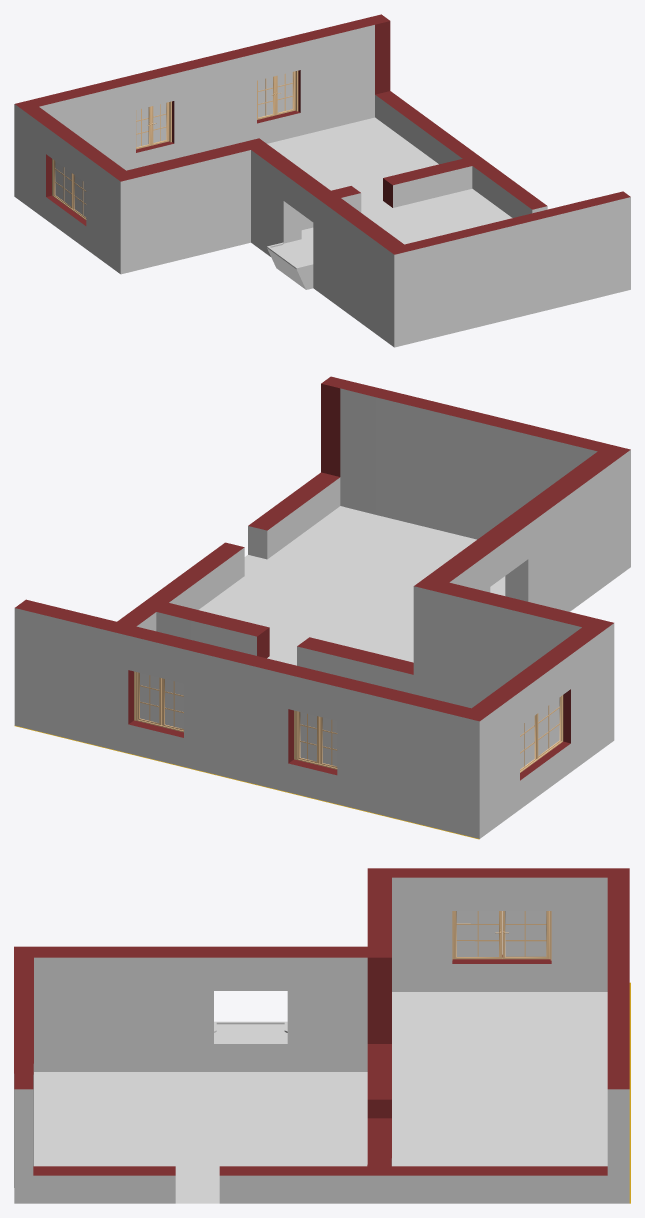
The model's file is neHouse.fbx.
3 views of the same model, one above another, from view 1: azimuth 30°, elevation 25°; view 2: azimuth 150°, elevation 25°; view 3: azimuth 270°, elevation 25° (orthographic). The views are drawn at different scales.
Parts seen in each view (by area): view 1: Walls, Floor, 16639_12_Pane_Casement_Window-White_V1.002, 16639_12_Pane_Casement_Window-White_V1.001, 16639_12_Pane_Casement_Window-White_V1; view 2: Walls, Floor, 16639_12_Pane_Casement_Window-White_V1.002, 16639_12_Pane_Casement_Window-White_V1.001, 16639_12_Pane_Casement_Window-White_V1; view 3: Walls, Floor, 16639_12_Pane_Casement_Window-White_V1.
Boxes of the visible parts, bbox=[...] form: Walls: bbox=[14, 14, 630, 347]; Floor: bbox=[267, 117, 512, 247]; 16639_12_Pane_Casement_Window-White_V1.002: bbox=[257, 70, 298, 119]; 16639_12_Pane_Casement_Window-White_V1.001: bbox=[136, 101, 171, 149]; 16639_12_Pane_Casement_Window-White_V1: bbox=[52, 159, 86, 219]; Walls: bbox=[14, 376, 630, 838]; Floor: bbox=[14, 506, 505, 839]; 16639_12_Pane_Casement_Window-White_V1.002: bbox=[134, 671, 183, 732]; 16639_12_Pane_Casement_Window-White_V1.001: bbox=[294, 710, 337, 769]; 16639_12_Pane_Casement_Window-White_V1: bbox=[520, 695, 563, 772]; Walls: bbox=[14, 868, 629, 1203]; Floor: bbox=[34, 982, 630, 1203]; 16639_12_Pane_Casement_Window-White_V1: bbox=[452, 911, 551, 960].
Bounding box in the file's own units: 4131 × 998 × 4876.
